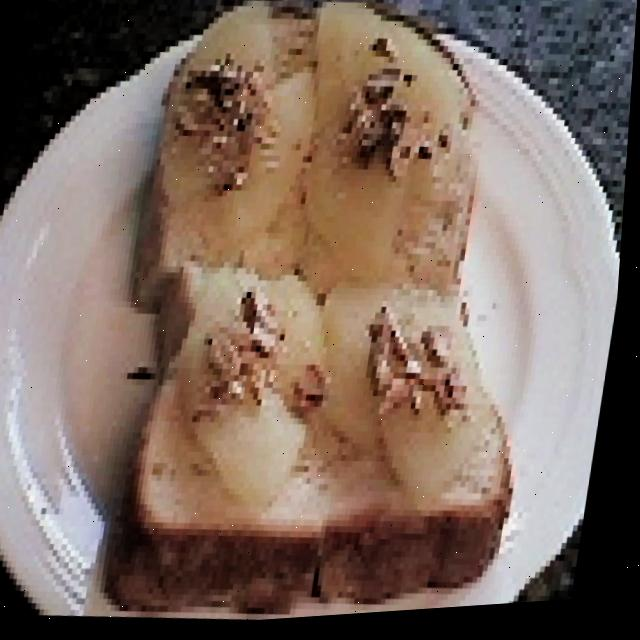面包点心: (90, 0, 577, 634)
